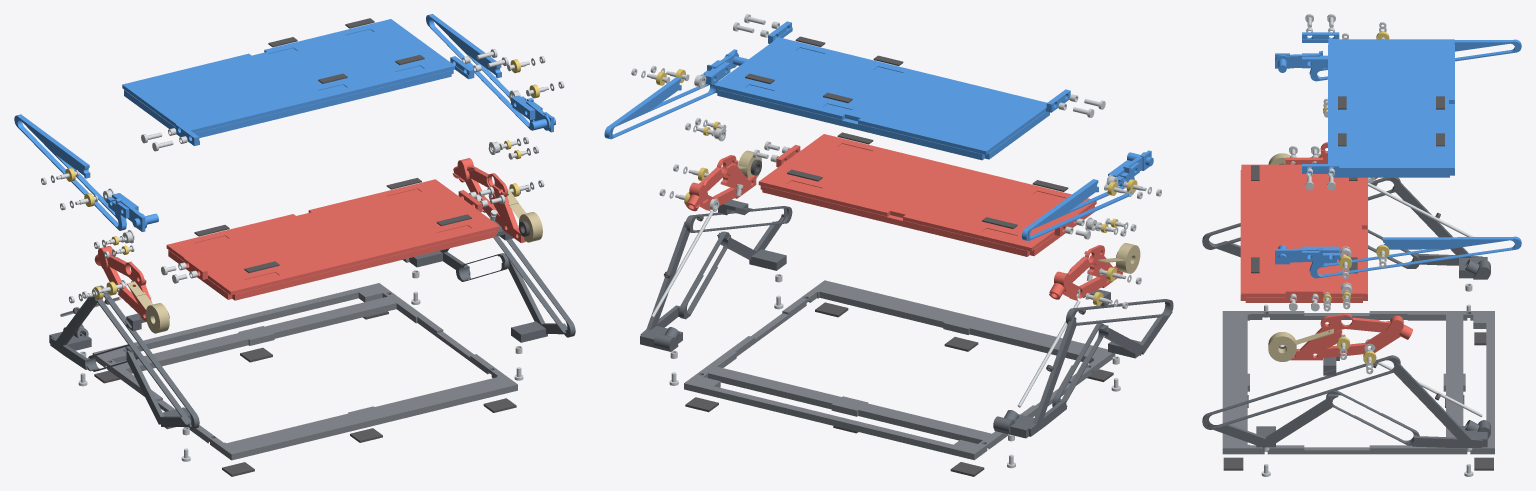
Rendered from exploded_view.glb.
3 views of the same model, side by side, from view 1: azimuth 30°, elevation 25°; view 2: azimuth 150°, elevation 25°; view 3: azimuth 270°, elevation 25° (orthographic). The views are drawn at different scales.
Visible parts, largest first — view 1: =>[0:1:1:17], =>[0:1:1:16], =>[0:1:1:3], =>[0:1:1:34], =>[0:1:1:84], =>[0:1:1:40], =>[0:1:1:90], =>[0:1:1:89], =>[0:1:1:39], =>[0:1:1:68], =>[0:1:1:118]; view 2: =>[0:1:1:17], =>[0:1:1:16], =>[0:1:1:3], =>[0:1:1:34], =>[0:1:1:84], =>[0:1:1:40], =>[0:1:1:90], =>[0:1:1:89], =>[0:1:1:39], =>[0:1:1:68]; view 3: =>[0:1:1:17], =>[0:1:1:16], =>[0:1:1:3], =>[0:1:1:84], =>[0:1:1:90], =>[0:1:1:34], =>[0:1:1:89], =>[0:1:1:40], =>[0:1:1:118], =>[0:1:1:73].
Part boxes in pixels (x1=…): =>[0:1:1:17]: x1=122, y1=19, x2=474, y2=145; =>[0:1:1:16]: x1=166, y1=179, x2=499, y2=300; =>[0:1:1:3]: x1=92, y1=283, x2=517, y2=460; =>[0:1:1:34]: x1=49, y1=285, x2=199, y2=429; =>[0:1:1:84]: x1=403, y1=212, x2=575, y2=342; =>[0:1:1:40]: x1=14, y1=114, x2=158, y2=231; =>[0:1:1:90]: x1=426, y1=14, x2=555, y2=132; =>[0:1:1:89]: x1=452, y1=158, x2=525, y2=242; =>[0:1:1:39]: x1=94, y1=246, x2=151, y2=321; =>[0:1:1:68]: x1=126, y1=281, x2=169, y2=333; =>[0:1:1:118]: x1=507, y1=190, x2=542, y2=242; =>[0:1:1:17]: x1=713, y1=21, x2=1070, y2=160; =>[0:1:1:16]: x1=758, y1=134, x2=1096, y2=256; =>[0:1:1:3]: x1=684, y1=280, x2=1115, y2=460; =>[0:1:1:34]: x1=993, y1=289, x2=1173, y2=438; =>[0:1:1:84]: x1=640, y1=200, x2=792, y2=351; =>[0:1:1:40]: x1=1021, y1=150, x2=1153, y2=240; =>[0:1:1:90]: x1=604, y1=49, x2=748, y2=139; =>[0:1:1:89]: x1=686, y1=155, x2=756, y2=211; =>[0:1:1:39]: x1=1049, y1=245, x2=1122, y2=300; =>[0:1:1:68]: x1=1098, y1=243, x2=1140, y2=273; =>[0:1:1:17]: x1=1302, y1=32, x2=1454, y2=177; =>[0:1:1:16]: x1=1240, y1=157, x2=1367, y2=302; =>[0:1:1:3]: x1=1222, y1=311, x2=1494, y2=454; =>[0:1:1:84]: x1=1202, y1=355, x2=1490, y2=447; =>[0:1:1:90]: x1=1275, y1=236, x2=1521, y2=278; =>[0:1:1:34]: x1=1202, y1=177, x2=1490, y2=279; =>[0:1:1:89]: x1=1290, y1=313, x2=1412, y2=360; =>[0:1:1:40]: x1=1275, y1=39, x2=1521, y2=81; =>[0:1:1:118]: x1=1268, y1=328, x2=1333, y2=361; =>[0:1:1:73]: x1=1368, y1=183, x2=1473, y2=236.
Bounding box in the file's own units: 0.5208 × 0.3131 × 0.2928.
